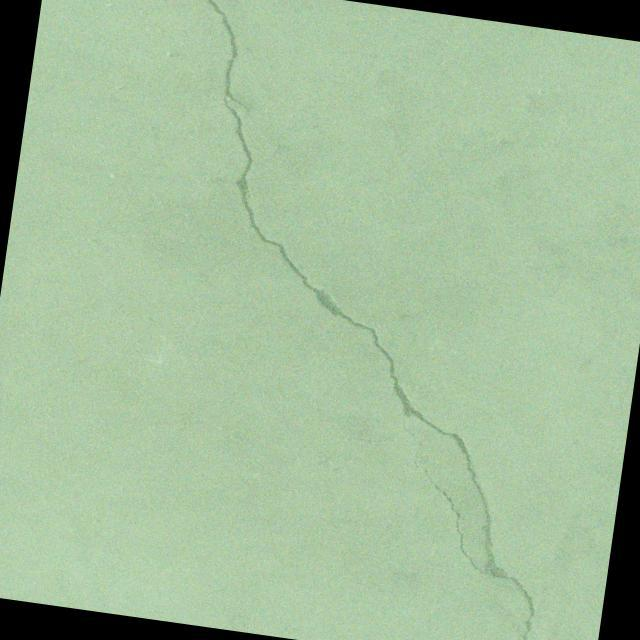crack: (61, 0, 626, 640)
